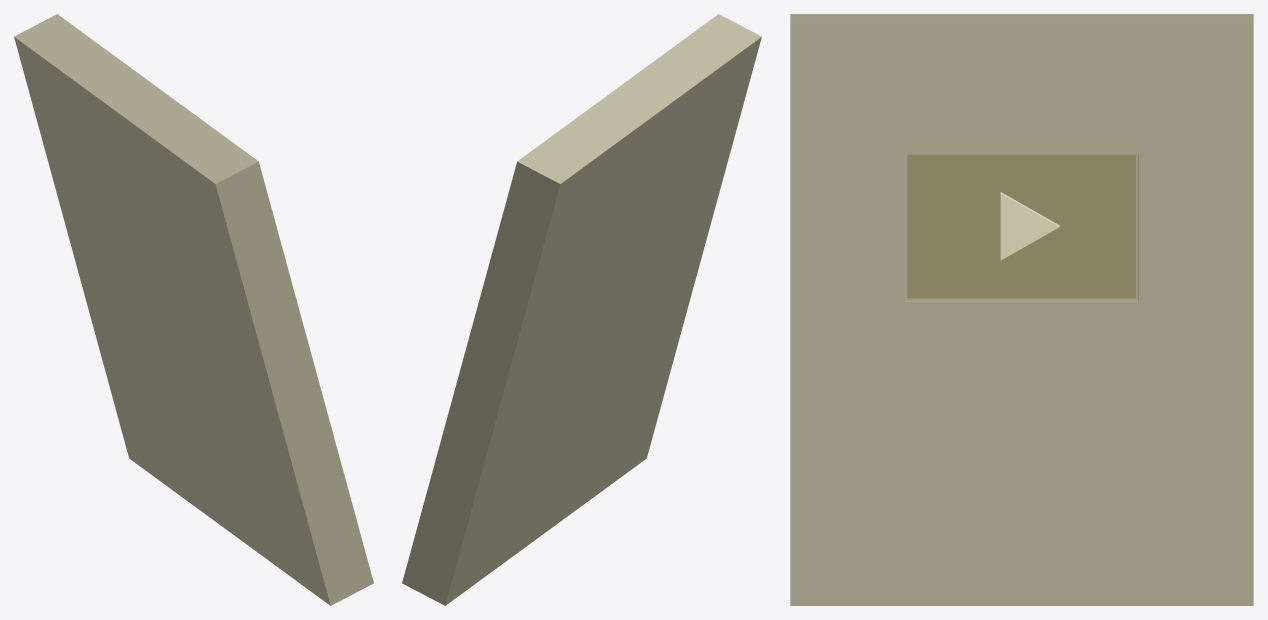
Rendered from golden_play_button.glb.
3 renders of one model, left to right at view 1: azimuth 30°, elevation 25°; view 2: azimuth 150°, elevation 25°; view 3: azimuth 270°, elevation 25°, orthographic. The views are drawn at different scales.
Visible parts, largest first — view 1: pCube59; view 2: pCube59; view 3: pCube59.
Boxes of the visible parts, bbox=[...] form: pCube59: bbox=[14, 14, 373, 605]; pCube59: bbox=[402, 14, 761, 605]; pCube59: bbox=[790, 14, 1253, 605].
Bounding box in the file's own units: 0.0055 × 0.0153 × 0.0121.
